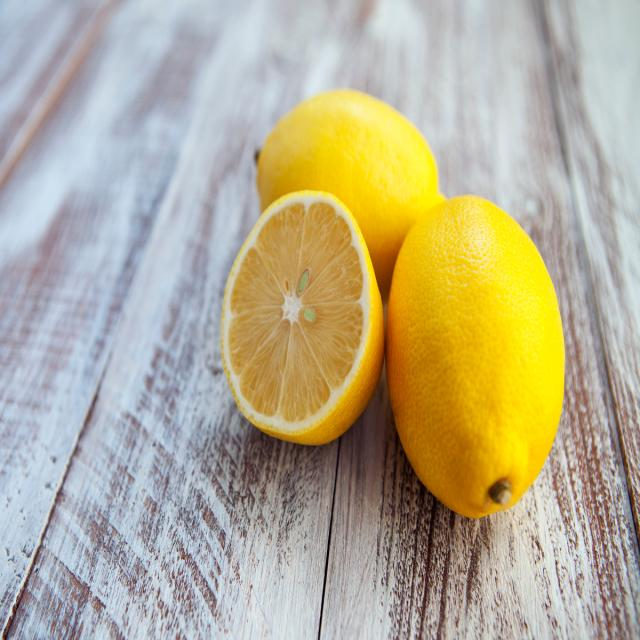lemon: (389, 192, 568, 530), (219, 186, 393, 464), (247, 96, 444, 274)
